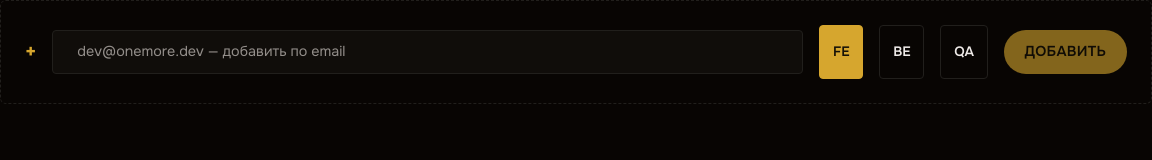
Test: InviteRow › should enable submit button when email is present
This screenshot has width=1152, height=160.
In the field with placeholder "dev@onemore.dev — добавить по email": point(428, 52) x1=52 y1=30 x2=803 y2=74, type "test@example.com"
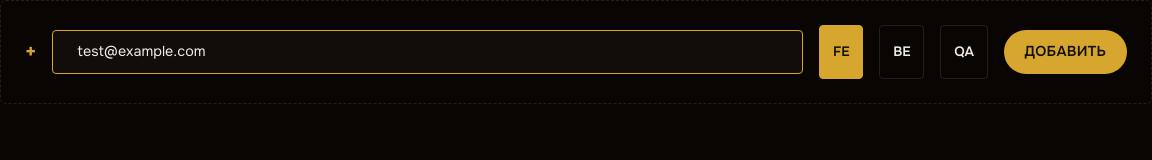
Result: the button "Добавить" is enabled at x1=1004 y1=30 x2=1127 y2=74
